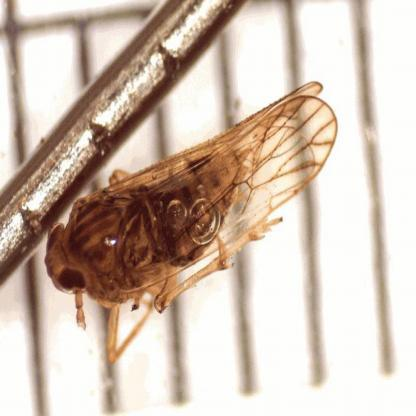brown-planthopper: (44, 80, 339, 314)
